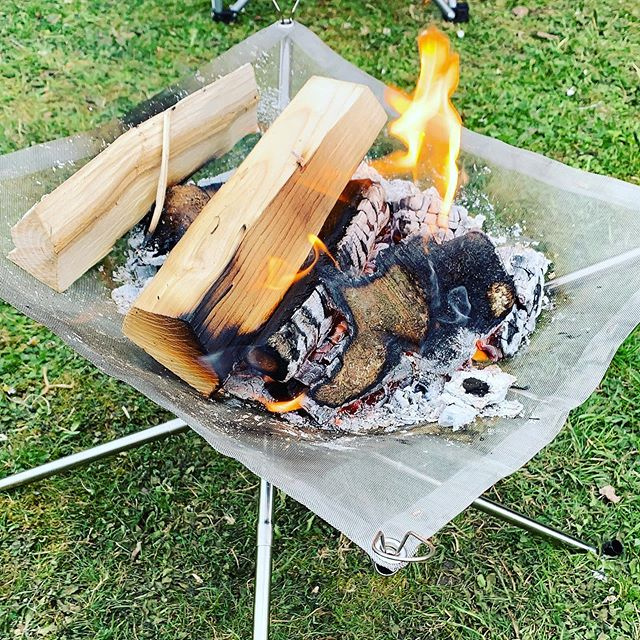fireplace: (41, 42, 620, 539)
